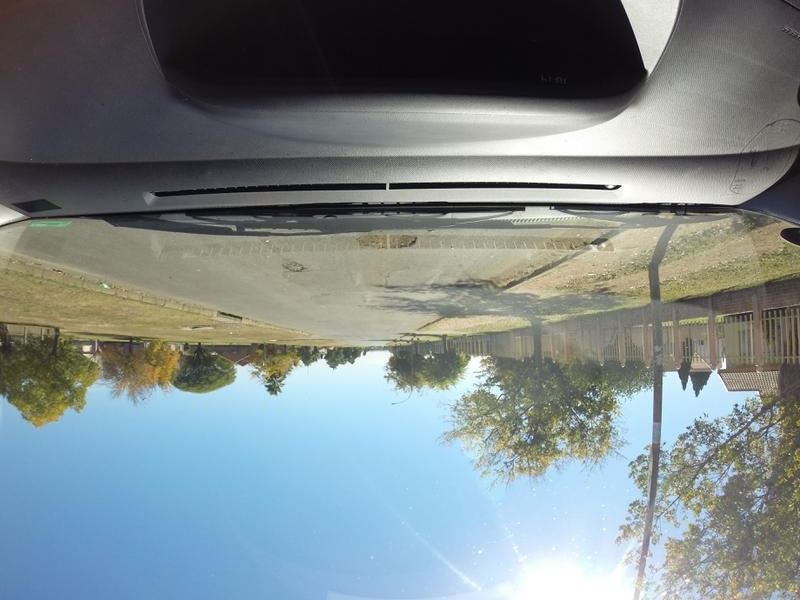pothole: (336, 234, 424, 259), (276, 260, 308, 274)
